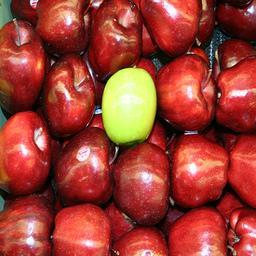apple: (120, 135, 180, 228), (88, 1, 152, 81), (53, 130, 115, 209), (168, 130, 229, 208), (156, 53, 214, 131), (39, 62, 96, 140), (1, 109, 52, 196), (1, 24, 45, 114), (136, 1, 203, 57), (1, 192, 54, 254), (50, 202, 111, 254), (33, 1, 89, 57), (165, 206, 228, 254), (217, 55, 256, 131), (215, 1, 256, 41)
